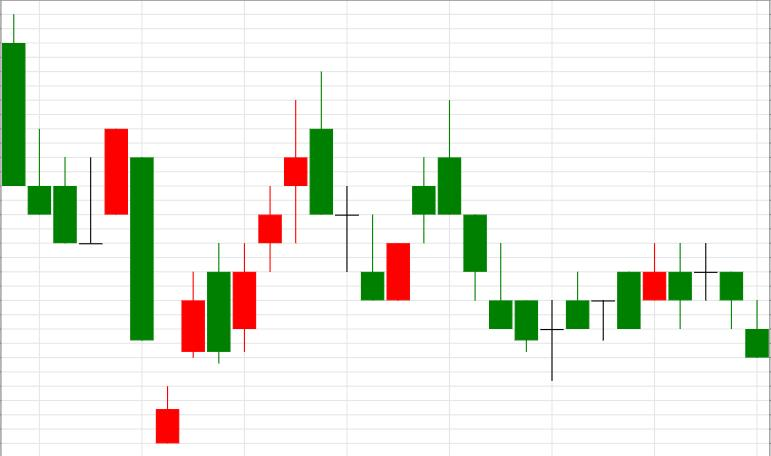inverse_hammer_rise: (284, 71, 384, 301)
